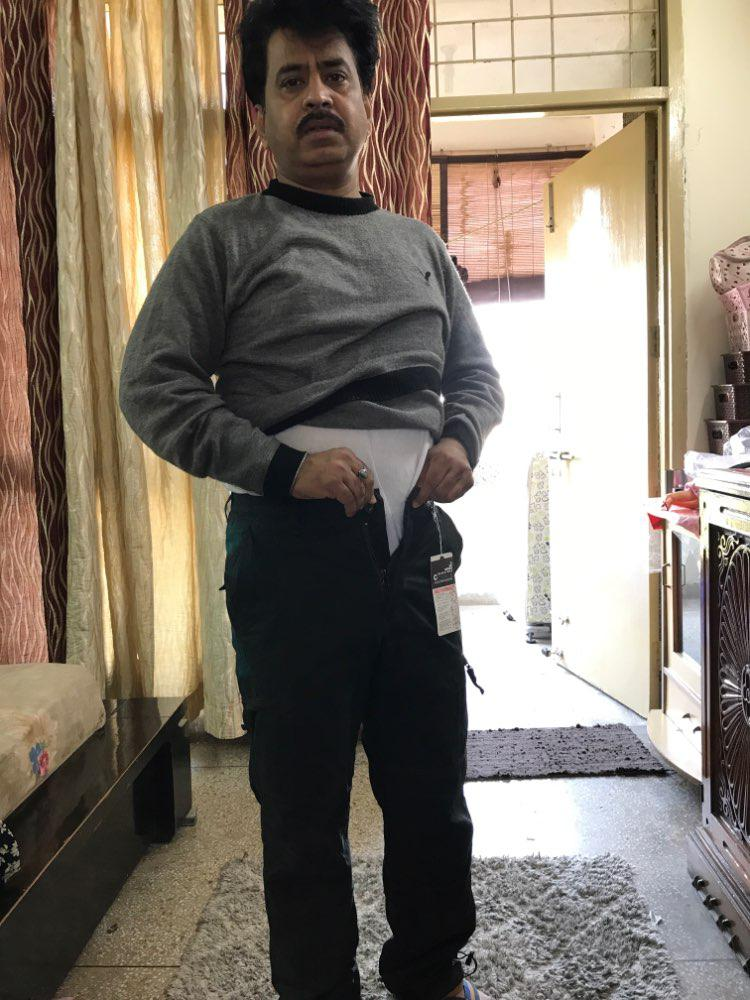pants: (209, 497, 477, 1000)
